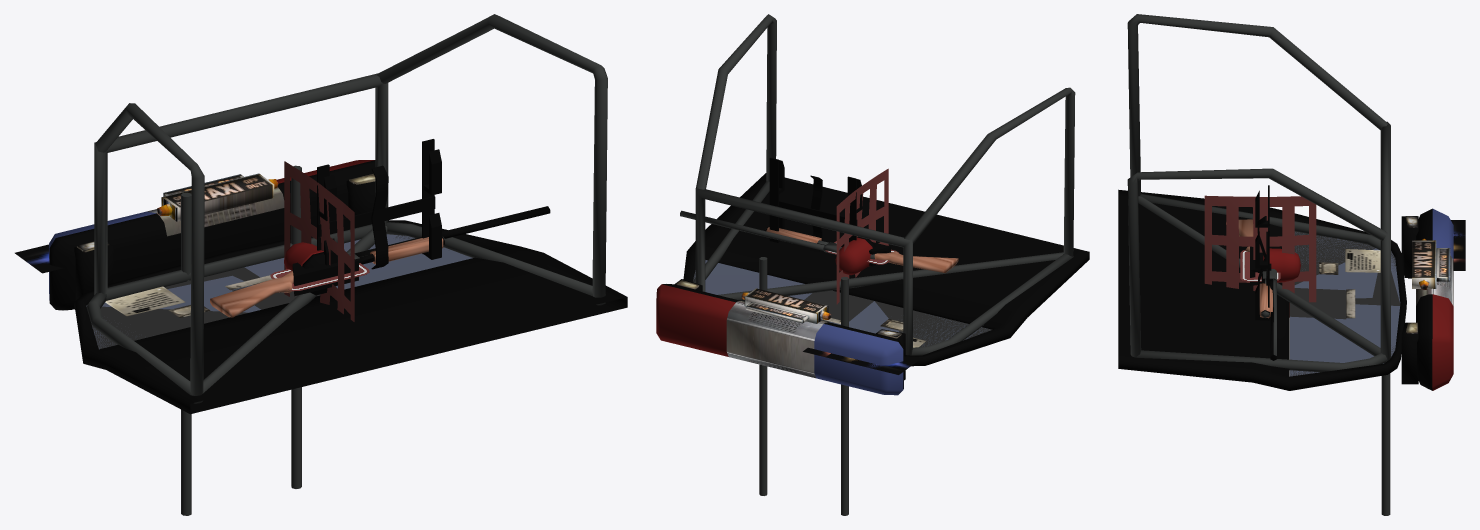
Rendered from ExtraMeshes.FBX.
The picture shows the model from 3 angles, left to right: view 1: azimuth 30°, elevation 25°; view 2: azimuth 150°, elevation 25°; view 3: azimuth 270°, elevation 25°; orthographic projection. The views are drawn at different scales.
Parts seen in each view (by area): view 1: CopBarrier, RollCage, Lightbar, GunRack, Net2, Bar, TaxiGlass, ShotGun, Grill, Sign, Taxi, GunSupport; view 2: CopBarrier, RollCage, Lightbar, BlueLens, RedLens, Bar, TaxiGlass, Grill, GunRack, ShotGun, Net2, Sign (+2 smaller); view 3: CopBarrier, RollCage, TaxiGlass, Net2, Lightbar, Grill, RedLens, Sign, Bar, Taxi, ShotGun, GunRack (+3 smaller).
Part boxes in pixels (x1,y1,x2,y2): CopBarrier: [75, 220, 627, 414]; RollCage: [86, 14, 607, 403]; Lightbar: [49, 160, 375, 310]; GunRack: [317, 139, 441, 269]; Net2: [284, 161, 354, 321]; Bar: [181, 165, 301, 515]; TaxiGlass: [86, 234, 472, 349]; ShotGun: [210, 206, 550, 317]; Grill: [86, 235, 414, 348]; Sign: [157, 173, 278, 221]; Taxi: [105, 275, 272, 317]; GunSupport: [292, 255, 358, 296]; CopBarrier: [683, 173, 1089, 366]; RollCage: [693, 14, 1075, 355]; Lightbar: [662, 279, 905, 389]; BlueLens: [814, 324, 903, 395]; RedLens: [656, 284, 735, 356]; Bar: [759, 257, 848, 515]; TaxiGlass: [693, 260, 989, 346]; Grill: [693, 259, 992, 346]; GunRack: [769, 157, 862, 252]; ShotGun: [680, 210, 958, 273]; Net2: [836, 168, 888, 304]; Sign: [741, 288, 831, 323]; CopBarrier: [1118, 189, 1406, 390]; RollCage: [1127, 14, 1390, 372]; TaxiGlass: [1290, 232, 1400, 376]; Net2: [1204, 195, 1316, 317]; Lightbar: [1401, 208, 1453, 390]; Grill: [1290, 232, 1400, 376]; RedLens: [1432, 294, 1453, 390]; Sign: [1412, 238, 1450, 289]; Bar: [1381, 373, 1390, 515]; Taxi: [1319, 249, 1380, 318]; ShotGun: [1226, 219, 1276, 360]; GunRack: [1255, 185, 1269, 320].
Size of the model in its own units: 166 by 174 by 137.
